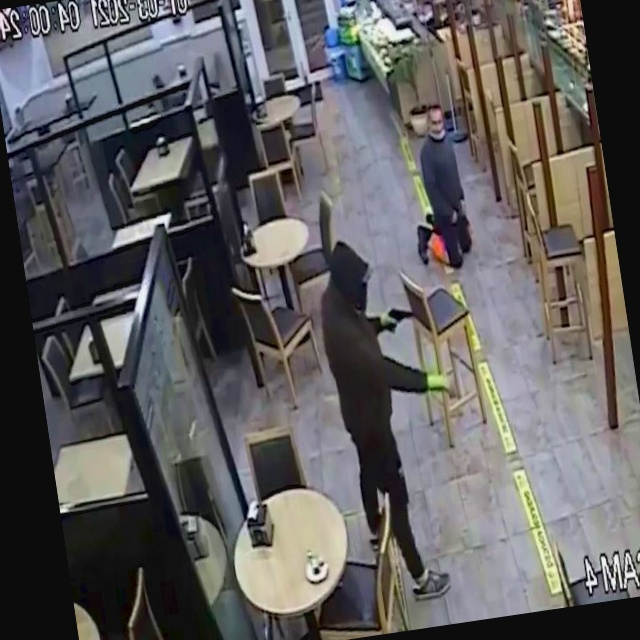gun: (379, 292, 423, 348)
